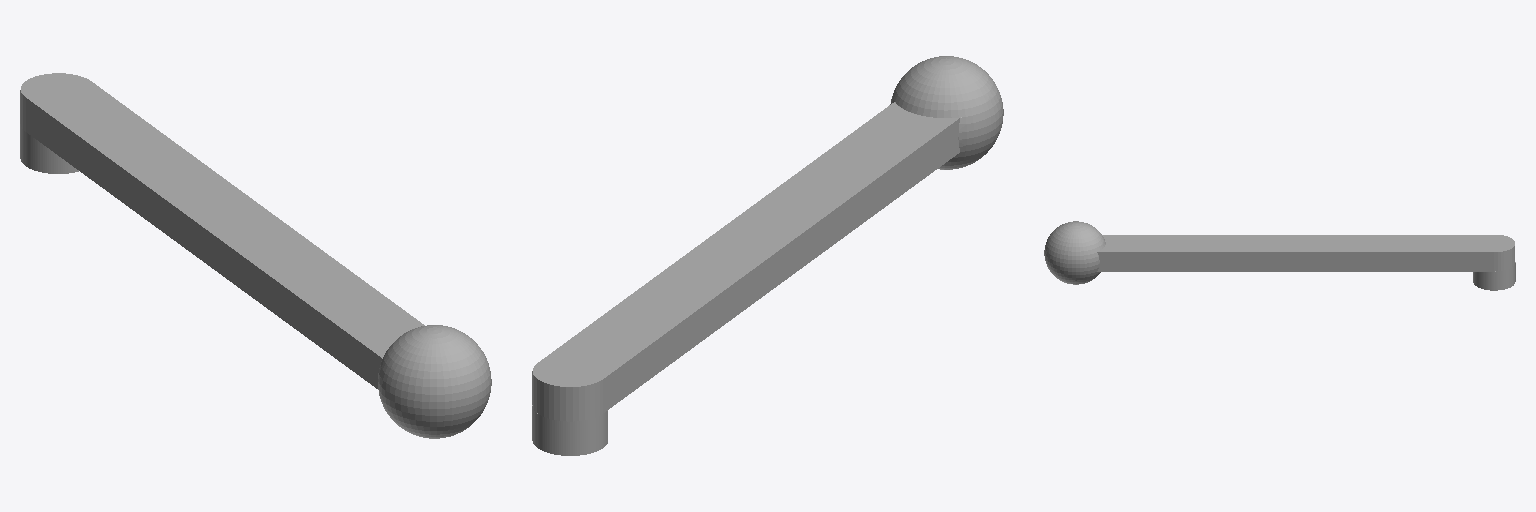
URDF robot description (pendulum_grav_simple):
<?xml version="1.0" ?>
<robot name="pendulum_grav_simple">

<material name="silver">
  <color rgba="0.700 0.700 0.700 1.000"/>
</material>

<link name="Base_1">
  <inertial>
    <origin xyz="5.228390859409967e-13 5.790023100121781e-19 -0.0024999999999999996" rpy="0 0 0"/>
    <mass value="3.0826877913351165"/>
    <inertia ixx="0.004476" iyy="0.004476" izz="0.003853" ixy="-0.0" iyz="-0.0" ixz="0.0"/>
  </inertial>
  <visual>
    <origin xyz="0 0 0" rpy="0 0 0"/>
    <geometry>
      <mesh filename="package://meshes/Base_1.stl" scale="0.001 0.001 0.001"/>
    </geometry>
    <material name="silver"/>
  </visual>
  <collision>
    <origin xyz="0 0 0" rpy="0 0 0"/>
    <geometry>
      <mesh filename="package://meshes/Base_1.stl" scale="0.001 0.001 0.001"/>
    </geometry>
  </collision>
</link>

<link name="Pendulum_1">
  <inertial>
    <origin xyz="1.1063957690715774e-18 -0.05889604644518034 0.002500000000000001" rpy="0 0 0"/>
    <mass value="51.623721698853316"/>
    <inertia ixx="23.763165" iyy="0.102335" izz="23.754653" ixy="0.0" iyz="0.752507" ixz="-0.0"/>
  </inertial>
  <visual>
    <origin xyz="-0.0 -0.0 -0.0" rpy="0 0 0"/>
    <geometry>
      <mesh filename="package://meshes/Pendulum_1.stl" scale="0.001 0.001 0.001"/>
    </geometry>
    <material name="silver"/>
  </visual>
  <collision>
    <origin xyz="-0.0 -0.0 -0.0" rpy="0 0 0"/>
    <geometry>
      <mesh filename="package://meshes/Pendulum_1.stl" scale="0.001 0.001 0.001"/>
    </geometry>
  </collision>
</link>

<joint name="Revolute1" type="revolute">
  <origin xyz="0.0 0.0 0.0" rpy="0 0 0"/>
  <parent link="Base_1"/>
  <child link="Pendulum_1"/>
  <axis xyz="0.0 0.0 1.0"/>
  <limit upper="3.14159" lower="-3.14159" effort="100" velocity="100"/>
</joint>

</robot>

--- Render facts (derived) ---
Views: 3 orthographic renders of the robot side by side, from view 1: azimuth 30°, elevation 25°; view 2: azimuth 150°, elevation 25°; view 3: azimuth 270°, elevation 25°.
Model pendulum_grav_simple with 2 links and 1 joints (1 revolute), rooted at Base_1, posed every joint at zero.
Links seen in each view (by area): view 1: Pendulum_1, Base_1; view 2: Pendulum_1, Base_1; view 3: Pendulum_1, Base_1.
Boxes of the visible links, x1,y1,x2,y2 form: Pendulum_1: [20, 73, 491, 438]; Base_1: [20, 124, 78, 173]; Pendulum_1: [532, 56, 1003, 421]; Base_1: [532, 405, 607, 455]; Pendulum_1: [1044, 221, 1514, 284]; Base_1: [1473, 262, 1515, 290].
Size in the robot's own frame: 0.1497 by 1.11 by 0.15 metres.
Meshes: 2 distinct files referenced, 2 mesh visuals loaded (2 binary STL).
